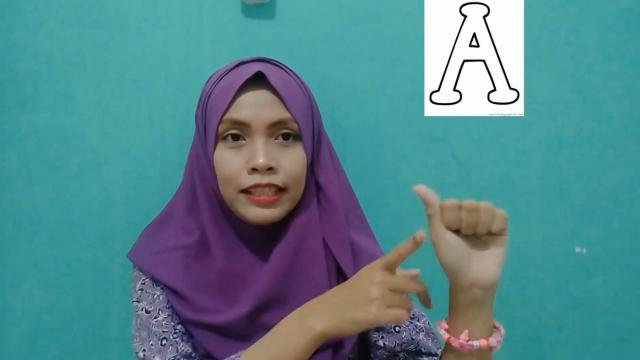A: (414, 178, 511, 298)
